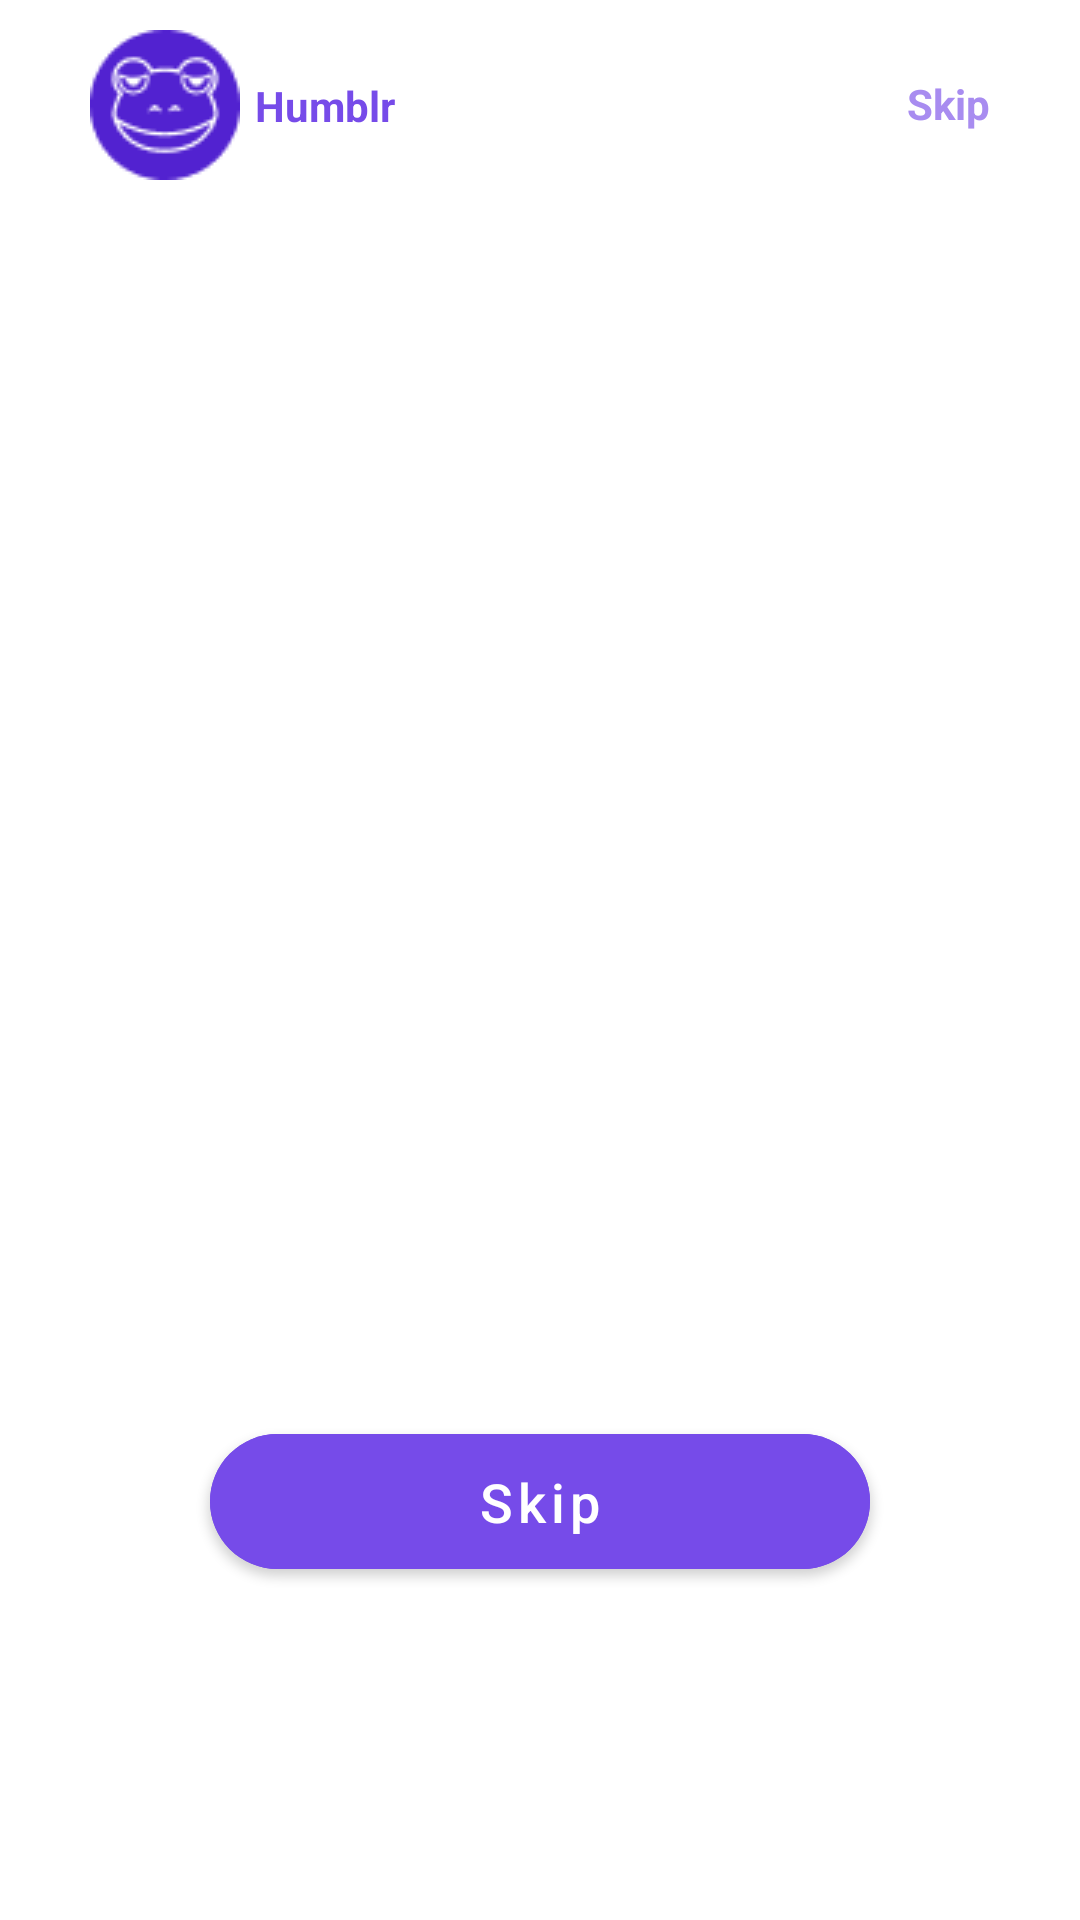

Screen size 1080px x 1920px. Icon name, then its box in pixels as (x1, y1, x2, y2):
frog: (90, 30, 240, 180)
